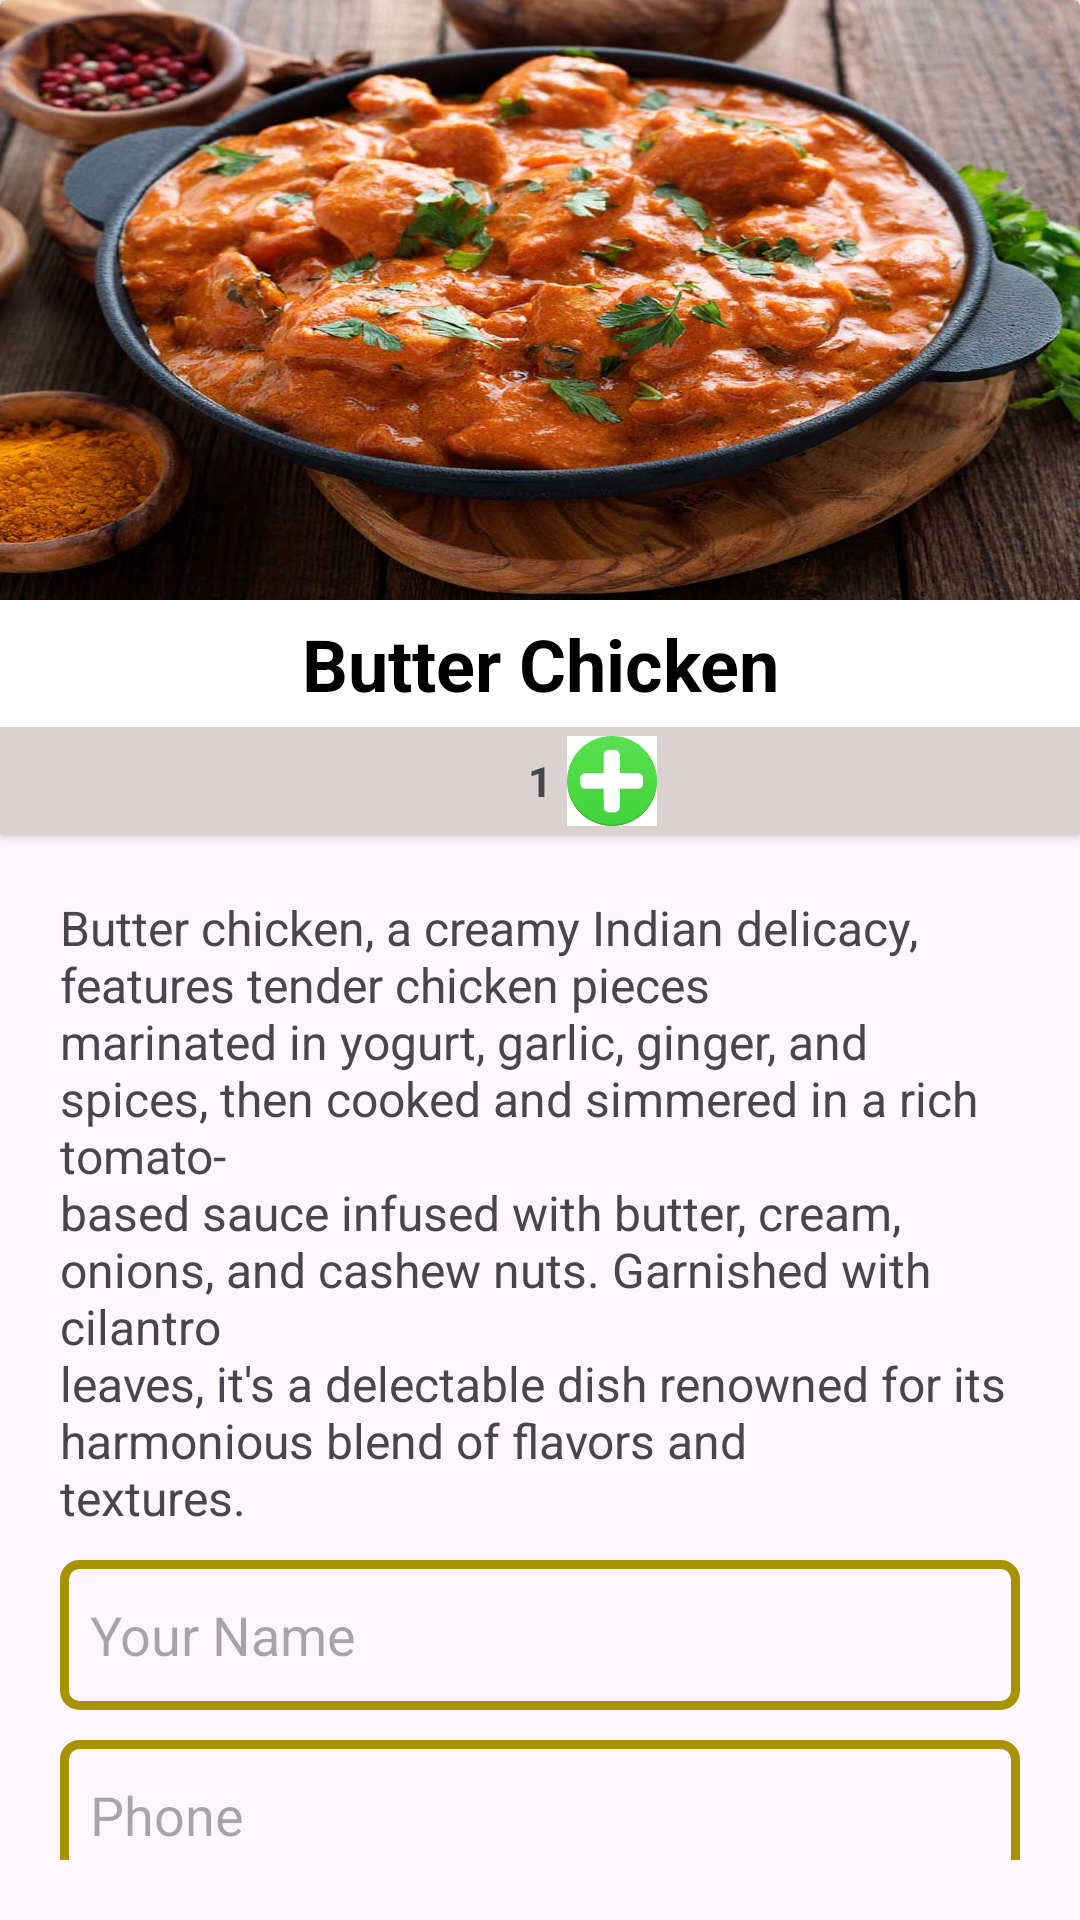

Where to tap for icons on this 1080*1920 app screen, as (x,y):
add: (612,781)
